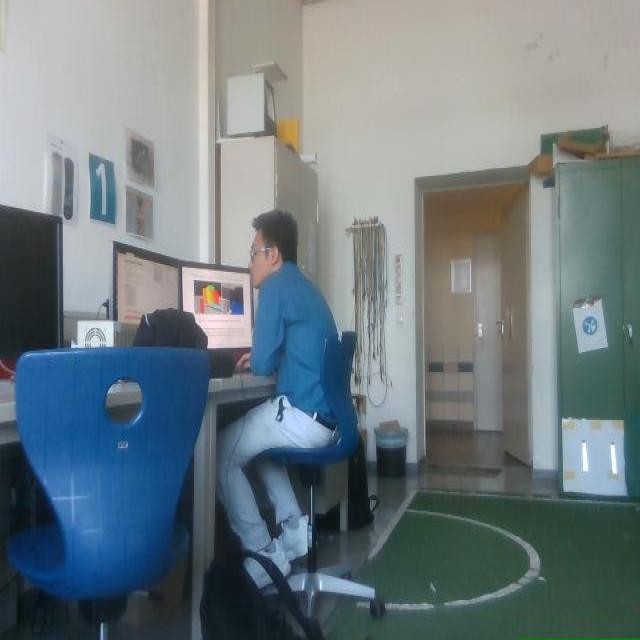humans: (217, 209, 337, 573)
objects: (8, 348, 208, 605), (264, 332, 384, 617), (200, 502, 322, 639), (200, 550, 322, 639), (133, 308, 234, 377), (133, 308, 207, 349), (348, 438, 378, 529), (208, 350, 235, 378)
